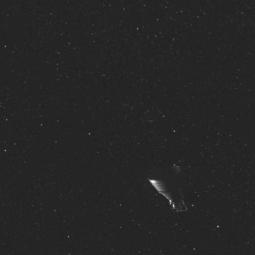debris: (144, 157, 202, 220)
